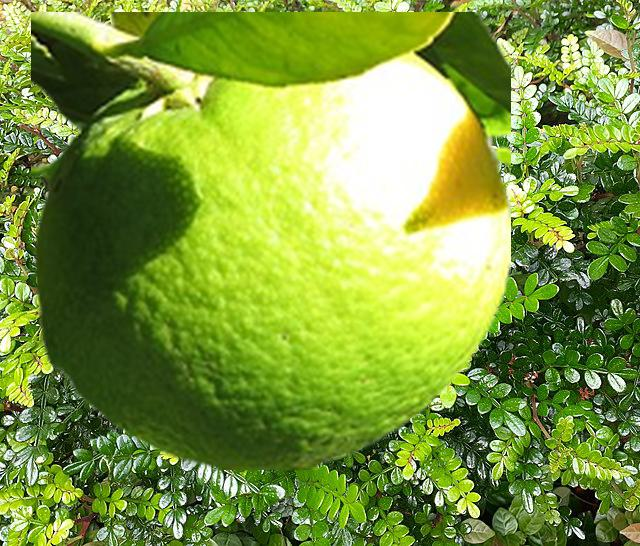dalandan: (31, 12, 509, 468)
